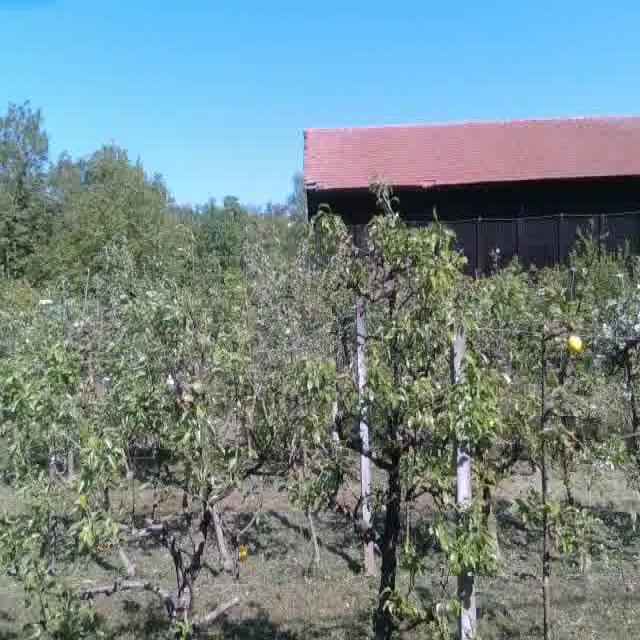yellow: (568, 333, 582, 352), (237, 545, 249, 564)
